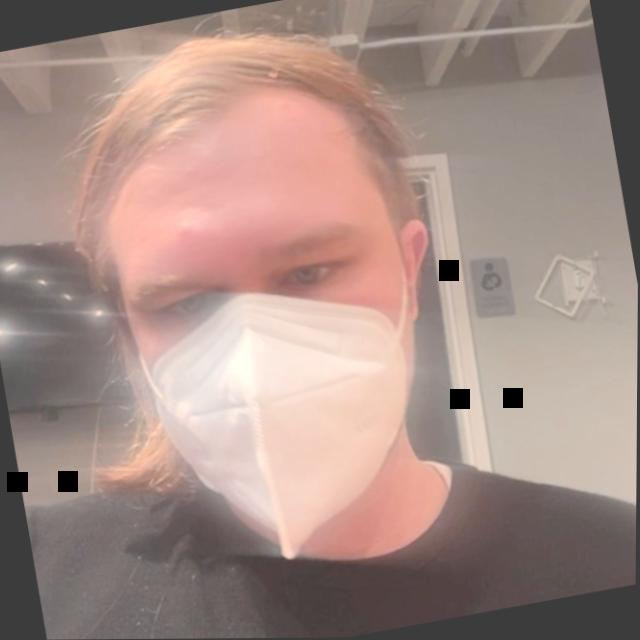Mask: (23, 0, 537, 620)
